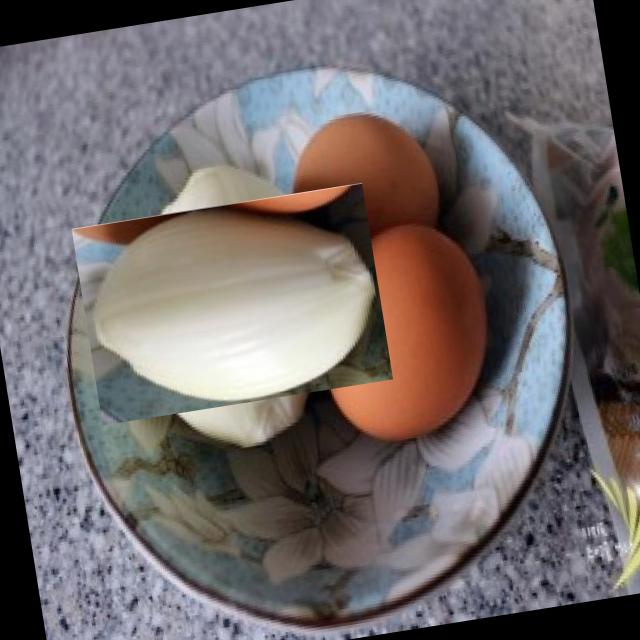Onion: (92, 163, 374, 446)
